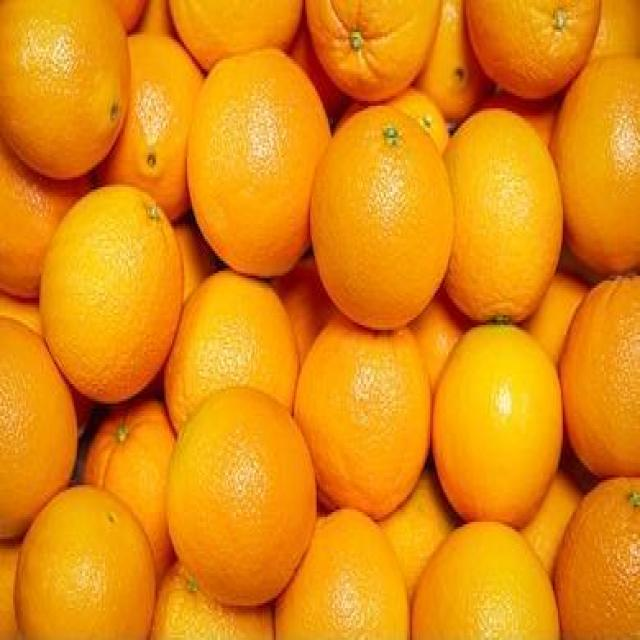Orange: (169, 387, 308, 606), (316, 107, 452, 320), (185, 49, 308, 283), (46, 183, 179, 392), (436, 327, 564, 523), (450, 106, 564, 324), (0, 0, 134, 179), (313, 320, 432, 510), (16, 490, 152, 640), (561, 52, 640, 276), (410, 525, 557, 640), (560, 272, 640, 472), (174, 270, 299, 390), (465, 0, 607, 97), (304, 0, 442, 94), (311, 509, 407, 640)
